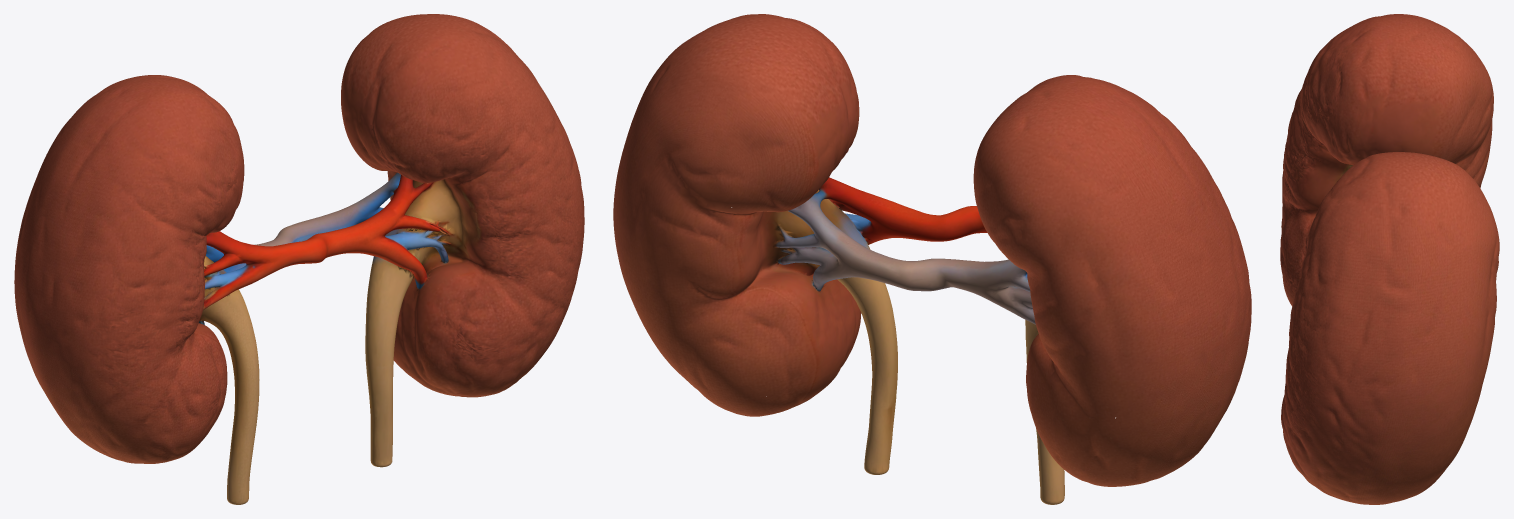
The model's file is organ-kidneys-interactive-lod.glb.
3 renders of one model, left to right at view 1: azimuth 30°, elevation 25°; view 2: azimuth 150°, elevation 25°; view 3: azimuth 270°, elevation 25°, orthographic. The views are drawn at different scales.
Visible parts, largest first — view 1: tripo_node_e5de9656-5b36-4996-8f10-3690a202b494; view 2: tripo_node_e5de9656-5b36-4996-8f10-3690a202b494; view 3: tripo_node_e5de9656-5b36-4996-8f10-3690a202b494.
Part boxes in pixels (x1=…): tripo_node_e5de9656-5b36-4996-8f10-3690a202b494: x1=14, y1=14, x2=584, y2=504; tripo_node_e5de9656-5b36-4996-8f10-3690a202b494: x1=613, y1=14, x2=1251, y2=504; tripo_node_e5de9656-5b36-4996-8f10-3690a202b494: x1=1280, y1=14, x2=1499, y2=504.
Bounding box in the file's own units: 32091 × 23589 × 12184.
1 material, 1 textured.
